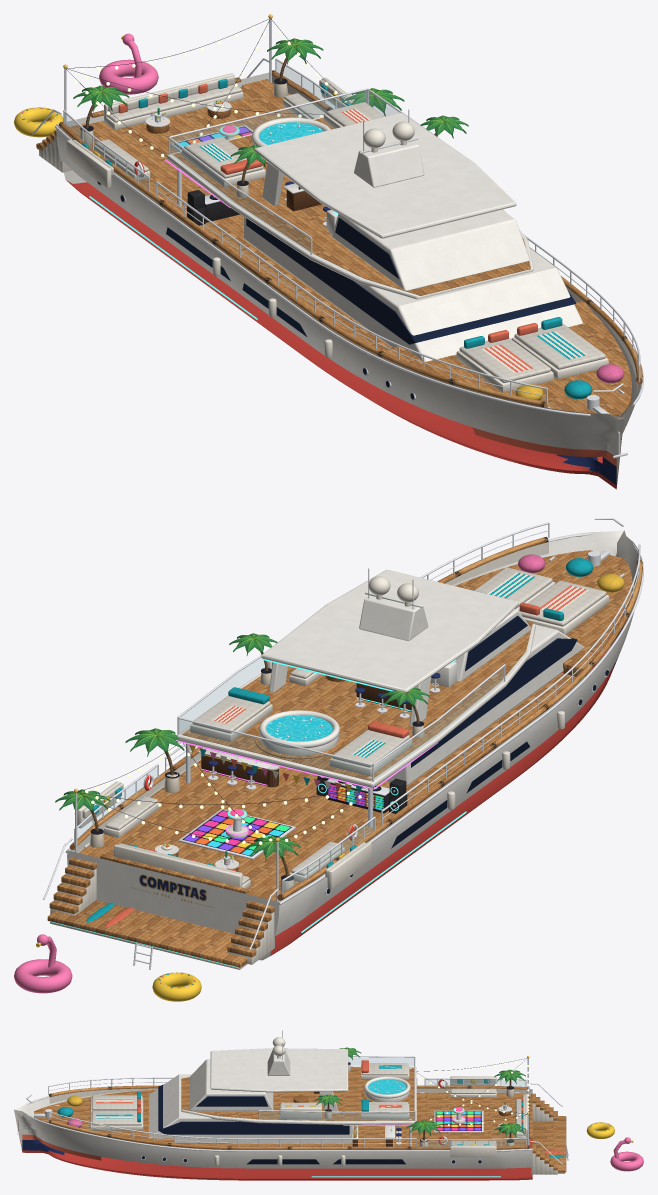
The model's file is yacht.glb.
The picture shows the model from 3 angles, top to bottom: view 1: azimuth 30°, elevation 25°; view 2: azimuth 150°, elevation 25°; view 3: azimuth 270°, elevation 25°; orthographic projection. The views are drawn at different scales.
Visible parts, largest first — view 1: yacht_body, flamingo, donut, hot_tub_water; view 2: yacht_body, dance_floor, flamingo, hot_tub_water, donut; view 3: yacht_body, dance_floor, flamingo, hot_tub_water, donut.
Boxes of the visible parts, bbox=[...] form: yacht_body: bbox=[31, 14, 643, 489]; flamingo: bbox=[99, 33, 158, 94]; donut: bbox=[14, 107, 63, 137]; hot_tub_water: bbox=[259, 122, 323, 144]; yacht_body: bbox=[43, 518, 643, 969]; dance_floor: bbox=[182, 810, 291, 856]; flamingo: bbox=[14, 934, 72, 993]; hot_tub_water: bbox=[266, 715, 332, 741]; donut: bbox=[152, 972, 201, 1001]; yacht_body: bbox=[14, 1030, 568, 1180]; dance_floor: bbox=[435, 1111, 481, 1130]; flamingo: bbox=[610, 1137, 643, 1171]; hot_tub_water: bbox=[368, 1079, 406, 1094]; donut: bbox=[586, 1122, 614, 1138].
Bounding box in the file's own units: 16.68 × 13.35 × 59.9.
67 materials, 24 textured.
